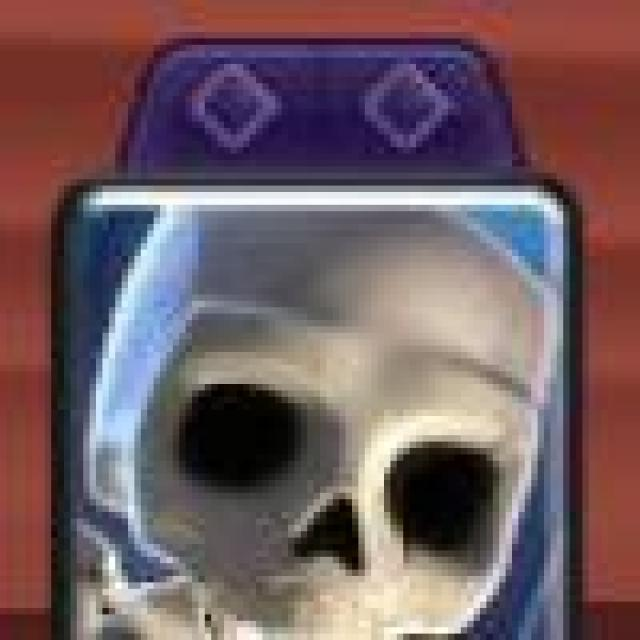Skeletons: (50, 176, 575, 640)
